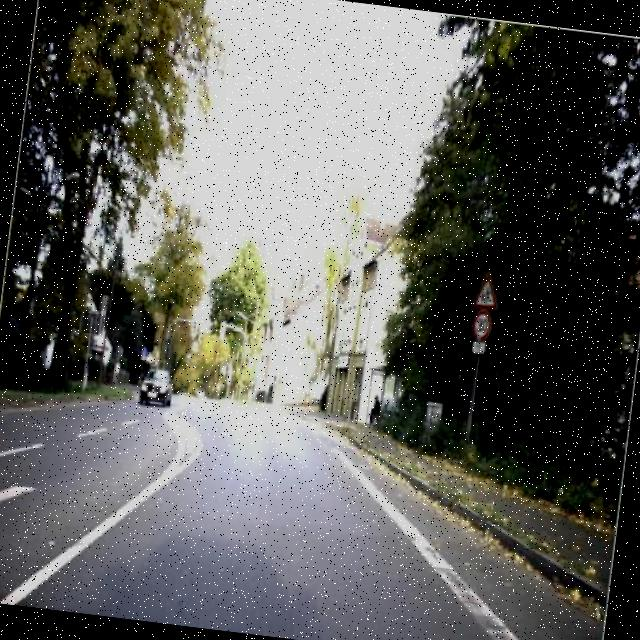Ograniczenie predkosci do 30: (468, 305, 494, 343)
